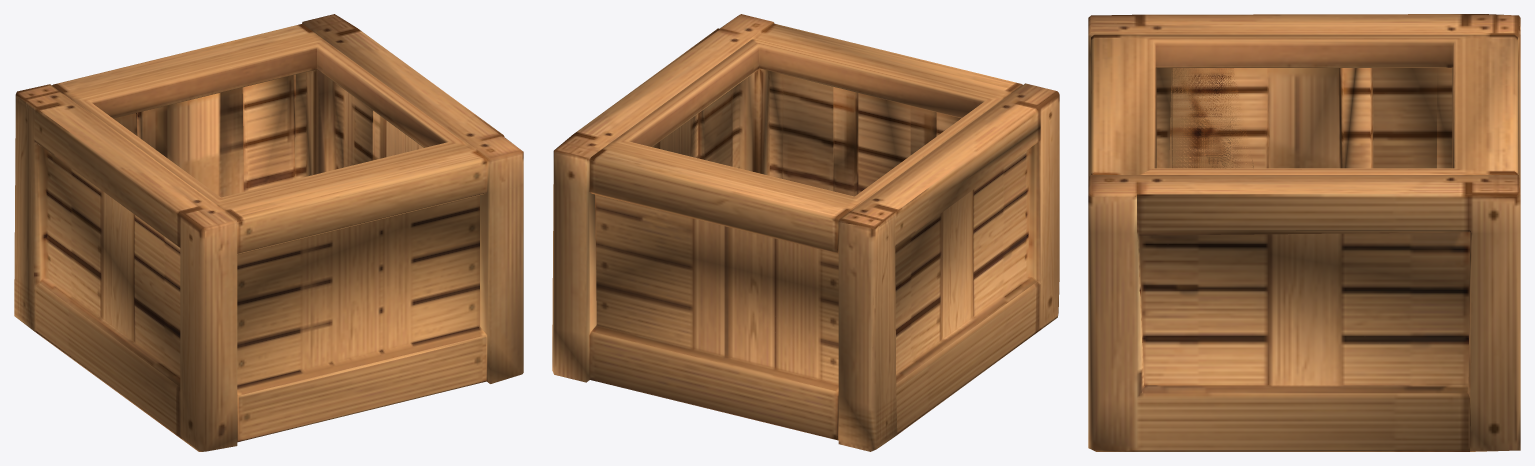
Rendered from prop_crate_a.glb.
The picture shows the model from 3 angles, left to right: view 1: azimuth 30°, elevation 25°; view 2: azimuth 150°, elevation 25°; view 3: azimuth 270°, elevation 25°; orthographic projection. The views are drawn at different scales.
Visible parts, largest first — view 1: hollow_normalise; view 2: hollow_normalise; view 3: hollow_normalise.
Boxes of the visible parts, <box> form: hollow_normalise: <box>14,14,523,451</box>; hollow_normalise: <box>552,14,1059,451</box>; hollow_normalise: <box>1088,14,1520,451</box>.
Size of the model in its own units: 1.37 by 0.9 by 1.37.
Materials: 1 (1 with a texture image).
